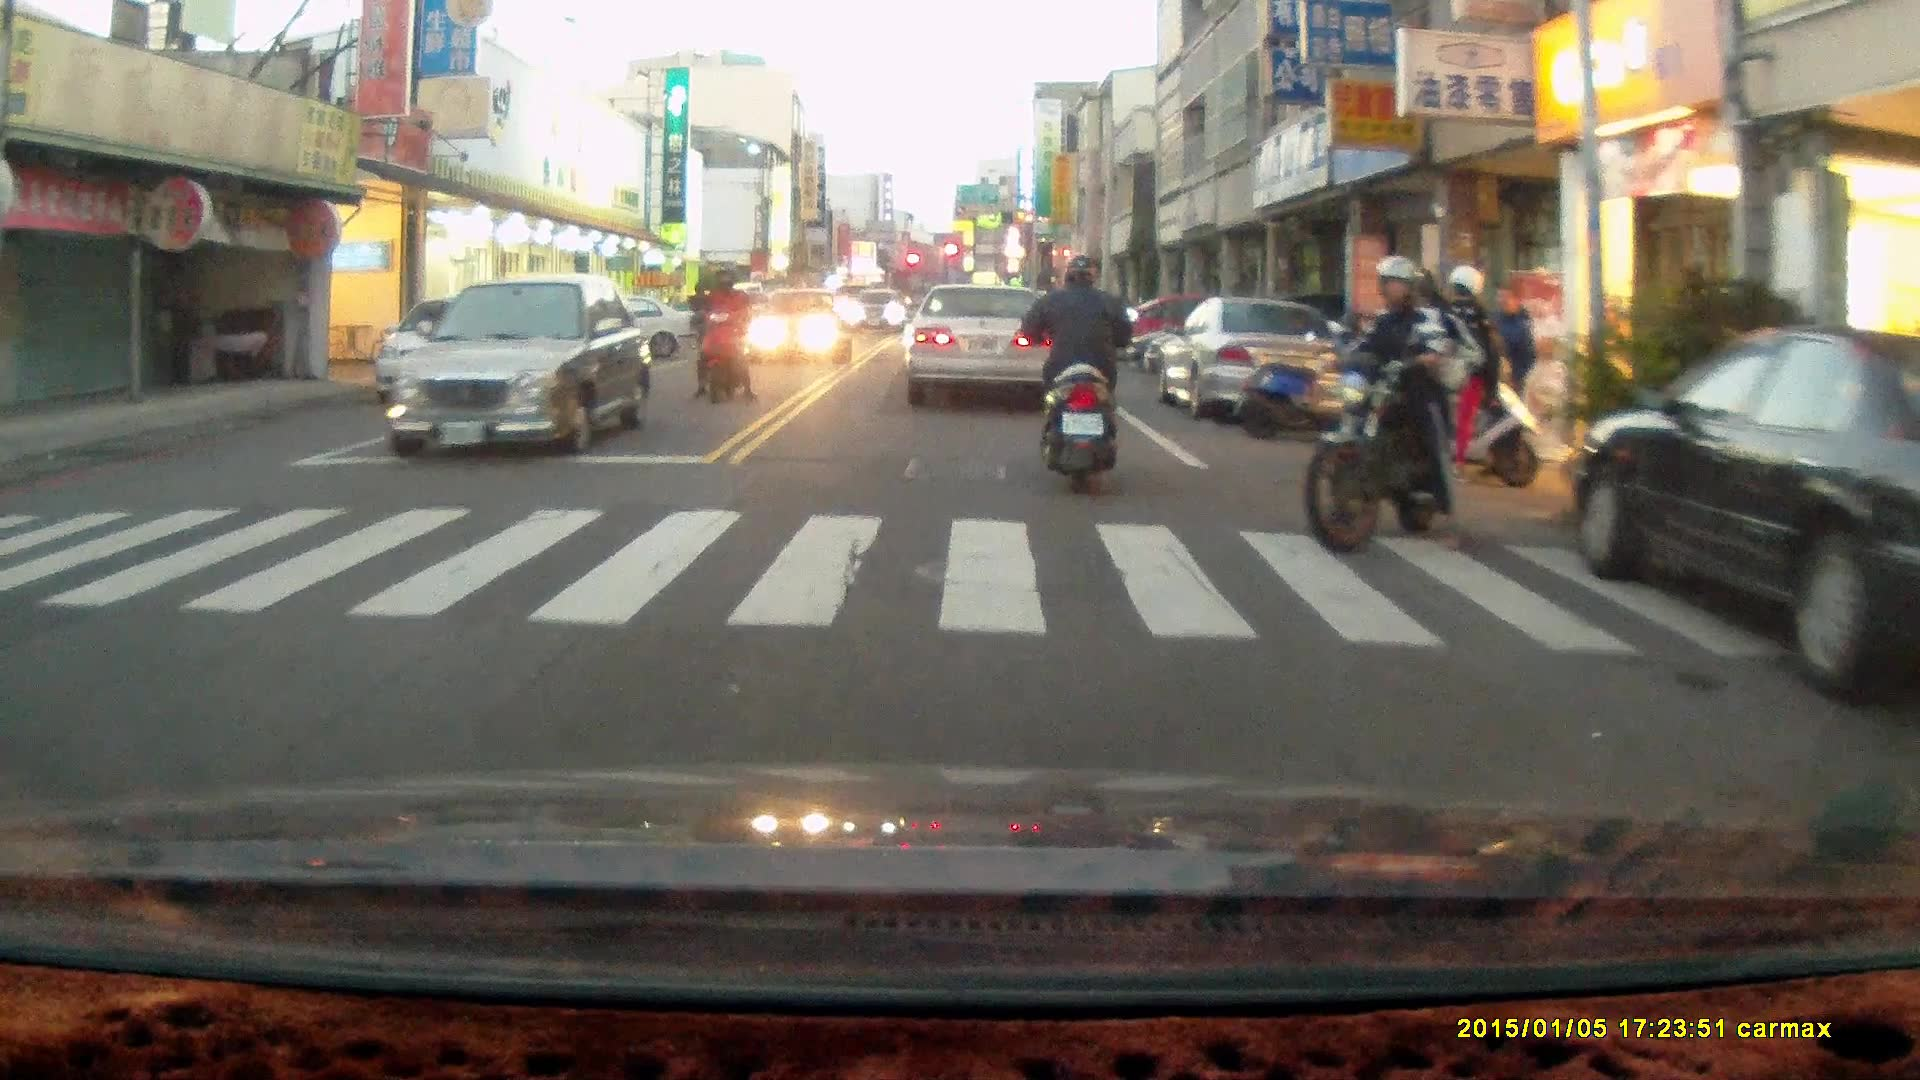pedestrian: (1429, 266, 1496, 483), (1487, 283, 1536, 458)
rider: (1301, 254, 1485, 553), (1019, 252, 1136, 495), (690, 260, 756, 406)
vehicle: (1571, 323, 1920, 715), (392, 276, 655, 464), (1159, 302, 1350, 426), (374, 290, 537, 413), (905, 287, 1060, 410), (739, 287, 847, 368)
